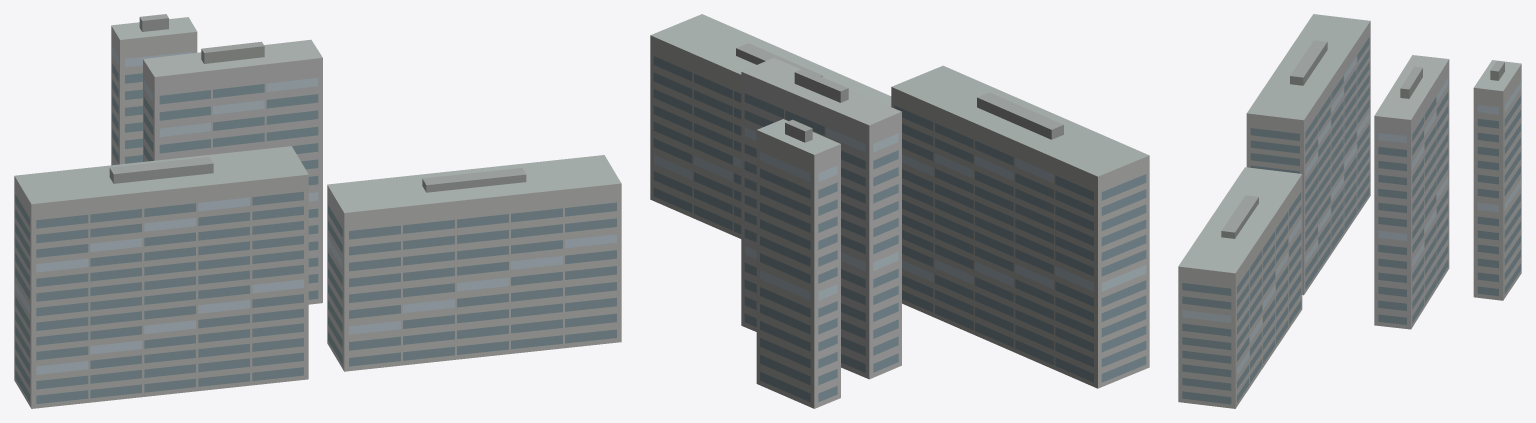
The model's file is apt-a10026792.glb.
3 renders of one model, left to right at view 1: azimuth 30°, elevation 25°; view 2: azimuth 150°, elevation 25°; view 3: azimuth 270°, elevation 25°, orthographic. The views are drawn at different scales.
Visible parts, largest first — view 1: apt-a10026792; view 2: apt-a10026792; view 3: apt-a10026792.
Part boxes in pixels (<box>): apt-a10026792: <box>14,14,621,408</box>; apt-a10026792: <box>650,14,1149,408</box>; apt-a10026792: <box>1178,14,1521,408</box>.
Bounding box in the file's own units: 103 × 47.81 × 67.98.
